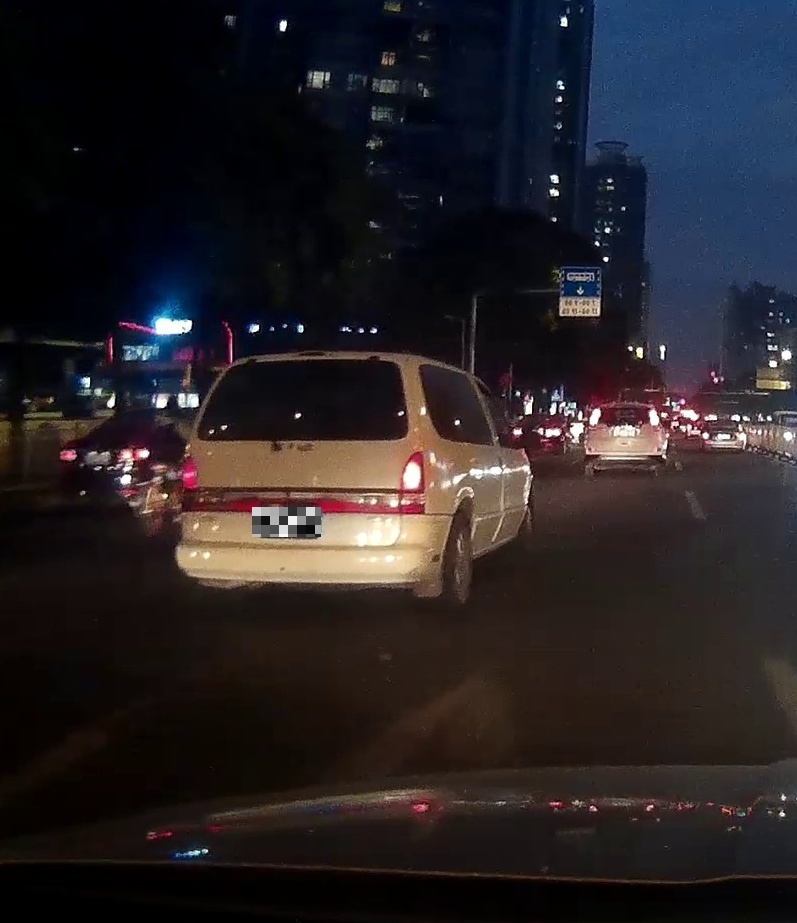L_light: (179, 456, 200, 511), (588, 407, 602, 430)
R_light: (400, 450, 424, 514), (649, 409, 661, 428)
T_light: (300, 351, 326, 357), (617, 404, 635, 407)
night-no: (174, 350, 425, 590), (584, 402, 664, 478)
plate_1: (252, 507, 321, 537)
